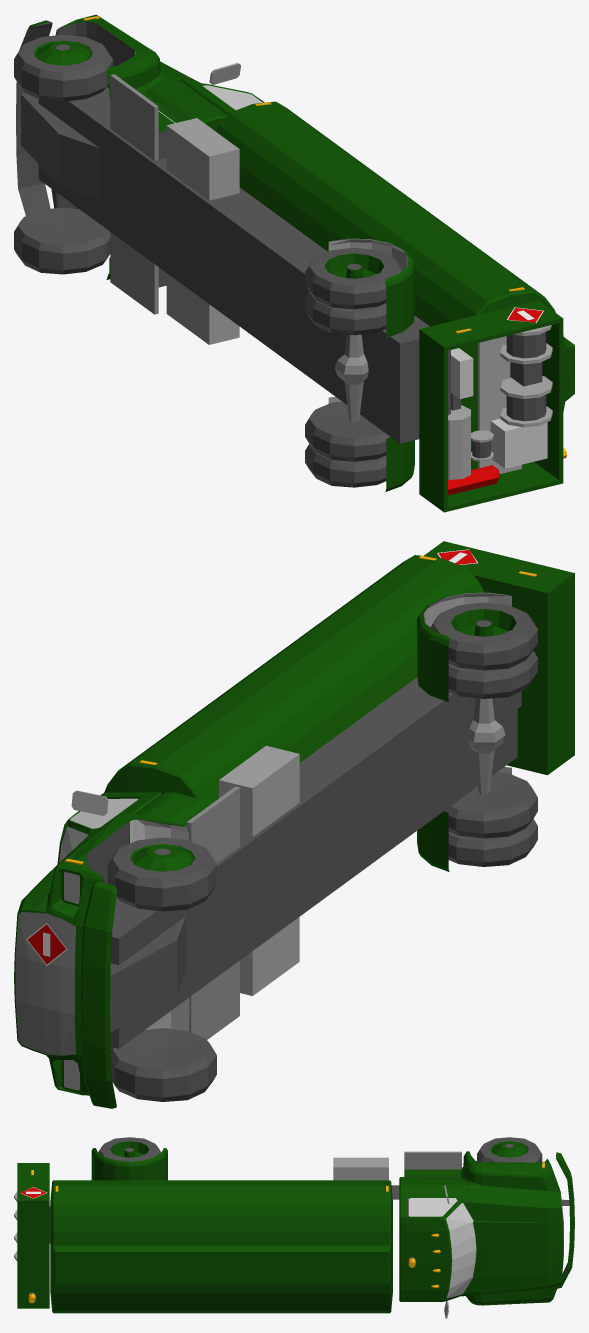
The model's file is fuel_truck.glb.
3 renders of one model, top to bottom at view 1: azimuth 30°, elevation 25°; view 2: azimuth 150°, elevation 25°; view 3: azimuth 270°, elevation 25°, orthographic. The views are drawn at different scales.
Parts seen in each view (by area): view 1: fuel_truck; view 2: fuel_truck; view 3: fuel_truck.
Boxes of the visible parts, <box> form: fuel_truck: <box>14,14,574,512</box>; fuel_truck: <box>14,541,574,1108</box>; fuel_truck: <box>14,1137,574,1318</box>.
Bounding box in the file's own units: 2.34 × 2.34 × 8.52.
